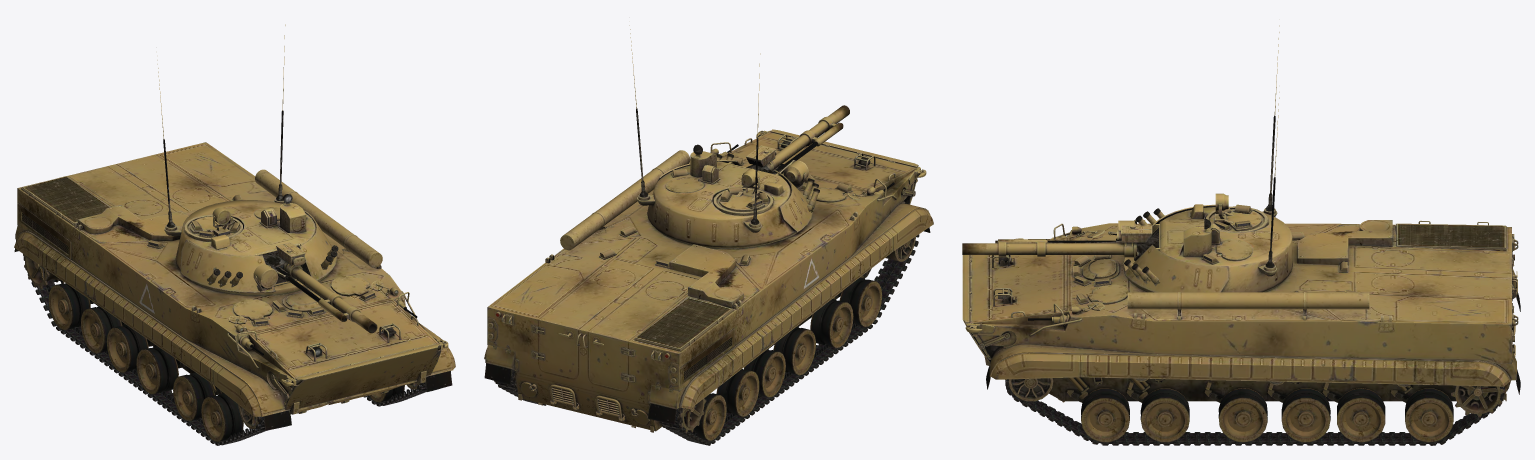
Rendered from tank-bmp3.glb.
3 views of the same model, side by side, from view 1: azimuth 30°, elevation 25°; view 2: azimuth 150°, elevation 25°; view 3: azimuth 270°, elevation 25° (orthographic). The views are drawn at different scales.
Visible parts, largest first — view 1: Box001_Material #79_0; view 2: Box001_Material #79_0; view 3: Box001_Material #79_0.
Part boxes in pixels (x1,y1,x2,y2): Box001_Material #79_0: (14,24,455,445); Box001_Material #79_0: (484,25,933,445); Box001_Material #79_0: (962,25,1520,445).
Size of the model in its own units: 2.74 by 4.28 by 6.17.
Materials: 1 (1 with a texture image).
